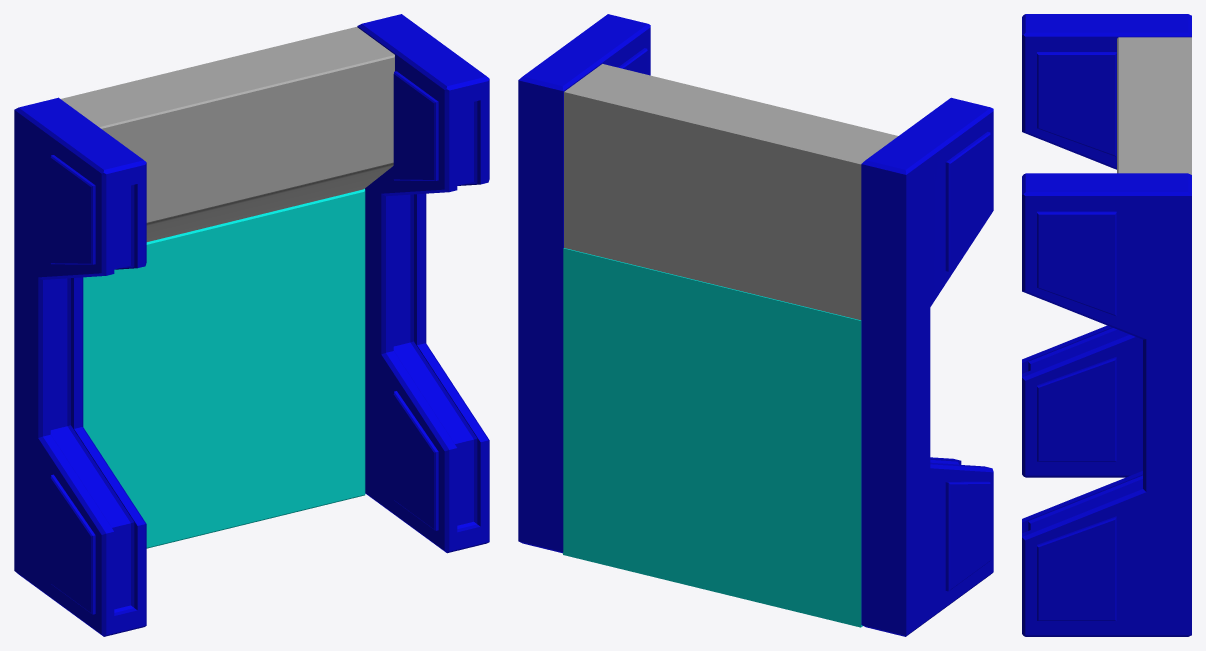
The model's file is Wall Test.fbx.
The picture shows the model from 3 angles, left to right: view 1: azimuth 30°, elevation 25°; view 2: azimuth 150°, elevation 25°; view 3: azimuth 270°, elevation 25°; orthographic projection. The views are drawn at different scales.
Visible parts, largest first — view 1: BasePiece007, Pillar001, Pillar004, AnglePiece001; view 2: BasePiece007, AnglePiece001, Pillar001, Pillar004; view 3: Pillar004, Pillar001, AnglePiece001.
Boxes of the visible parts, x1,y1,x2,y2 form: BasePiece007: (83, 188, 365, 548); Pillar001: (14, 97, 146, 636); Pillar004: (357, 14, 489, 553); AnglePiece001: (61, 27, 394, 241); BasePiece007: (563, 248, 862, 627); AnglePiece001: (564, 64, 897, 320); Pillar001: (861, 97, 993, 636); Pillar004: (518, 14, 650, 553); Pillar004: (1022, 173, 1191, 636); Pillar001: (1022, 14, 1191, 477); AnglePiece001: (1117, 37, 1191, 174).
Size of the model in its own units: 2.66 by 3 by 1.04.
